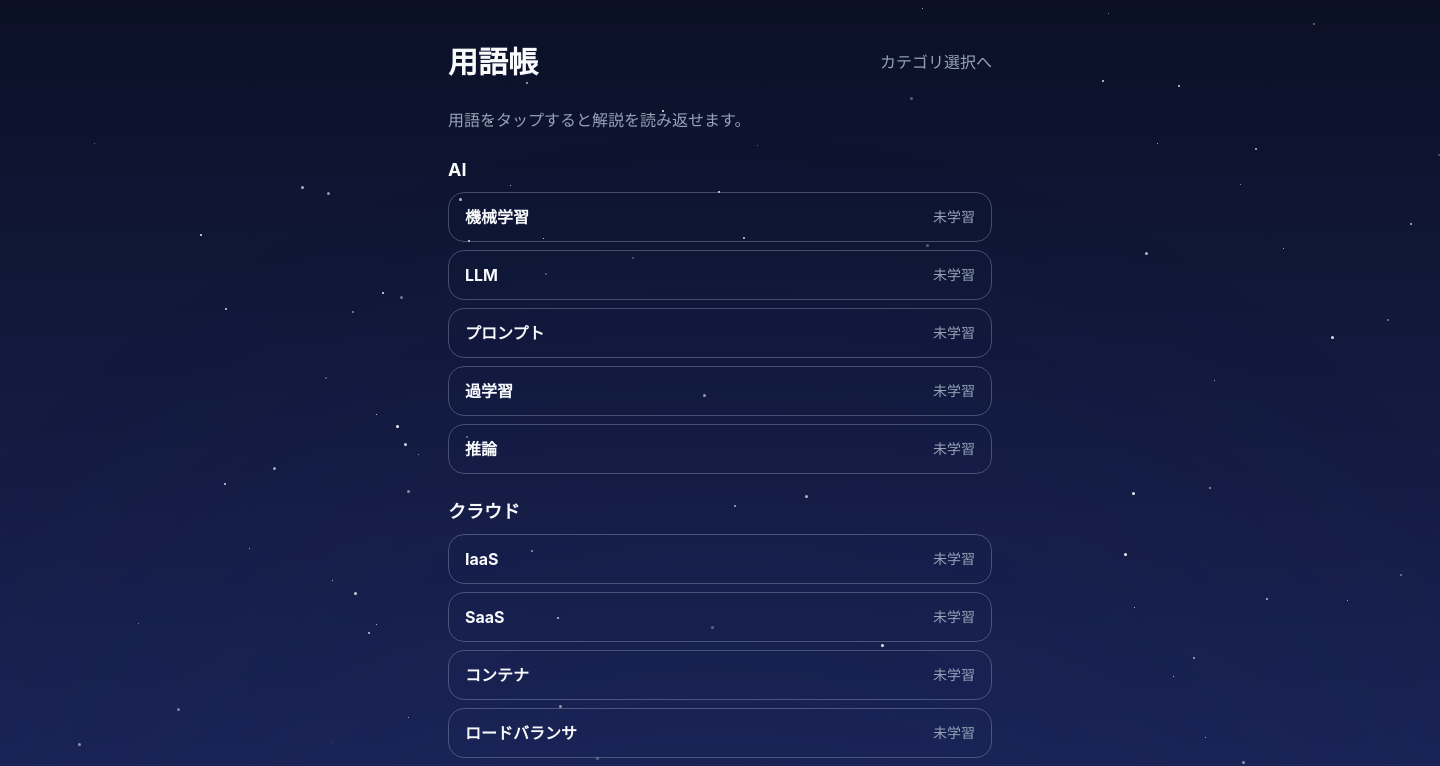
Test: Glossary › shows the explanation when a term is tapped
What coordinates should you click on to do the following:
click the button "機械学習 未学習"
I would click on:
 (497, 217)
Its box is [448,192,992,242].
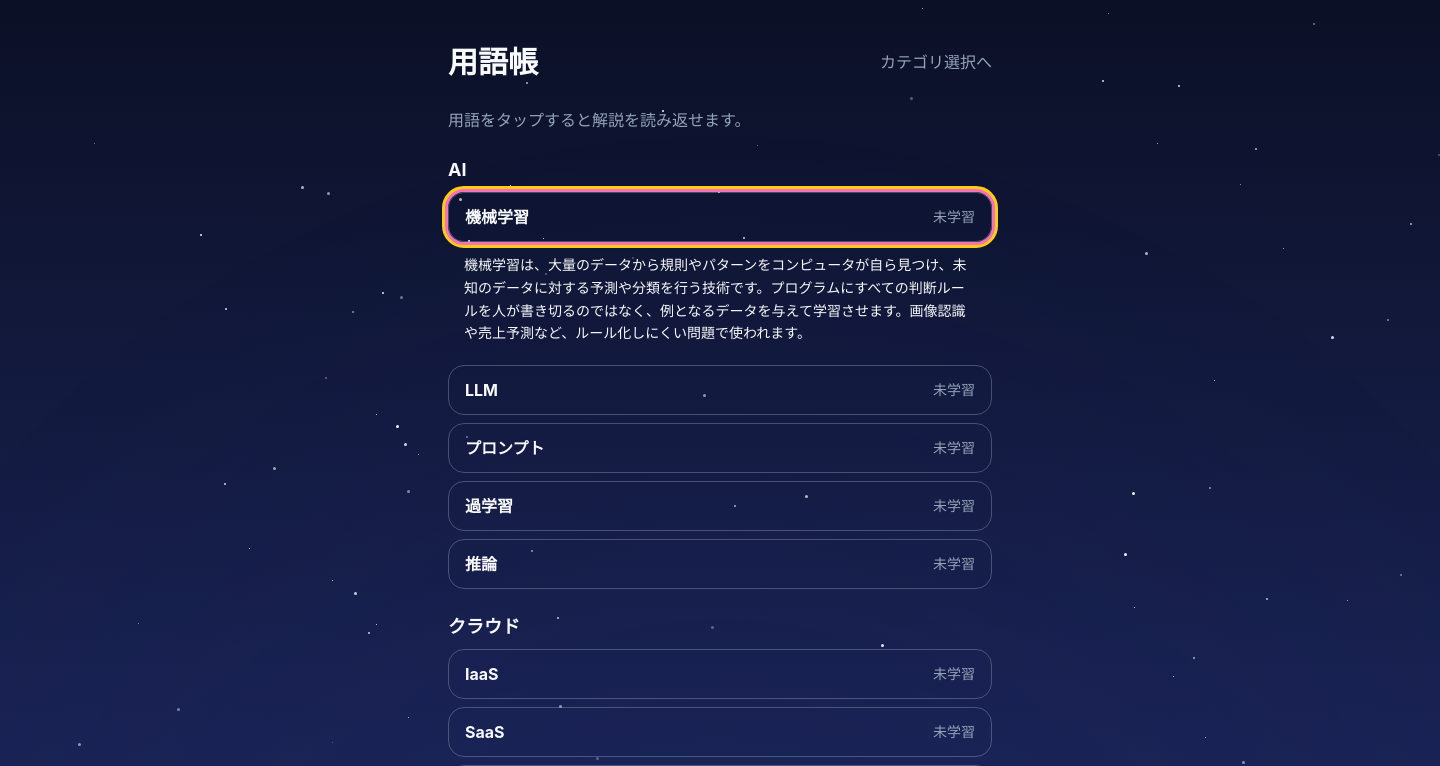
Now the text with test id "glossary-explanation" shows "機械学習は、大量のデータから規則やパターンをコンピュータが自ら見つけ、未知のデータに対する予測や分類を行う技術です。プログラムにすべての判断ルールを人が書き切るのではなく、例となるデータを与えて学習させます。画像認識や売上予測など、ルール化しにくい問題で使われます。", box [464,256,967,341]
Now the button "機械学習 未学習" is expanded
What coordinates should you click on to do the following:
click the button "機械学習 未学習"
I would click on:
 (497, 217)
Its box is [448,192,992,242].
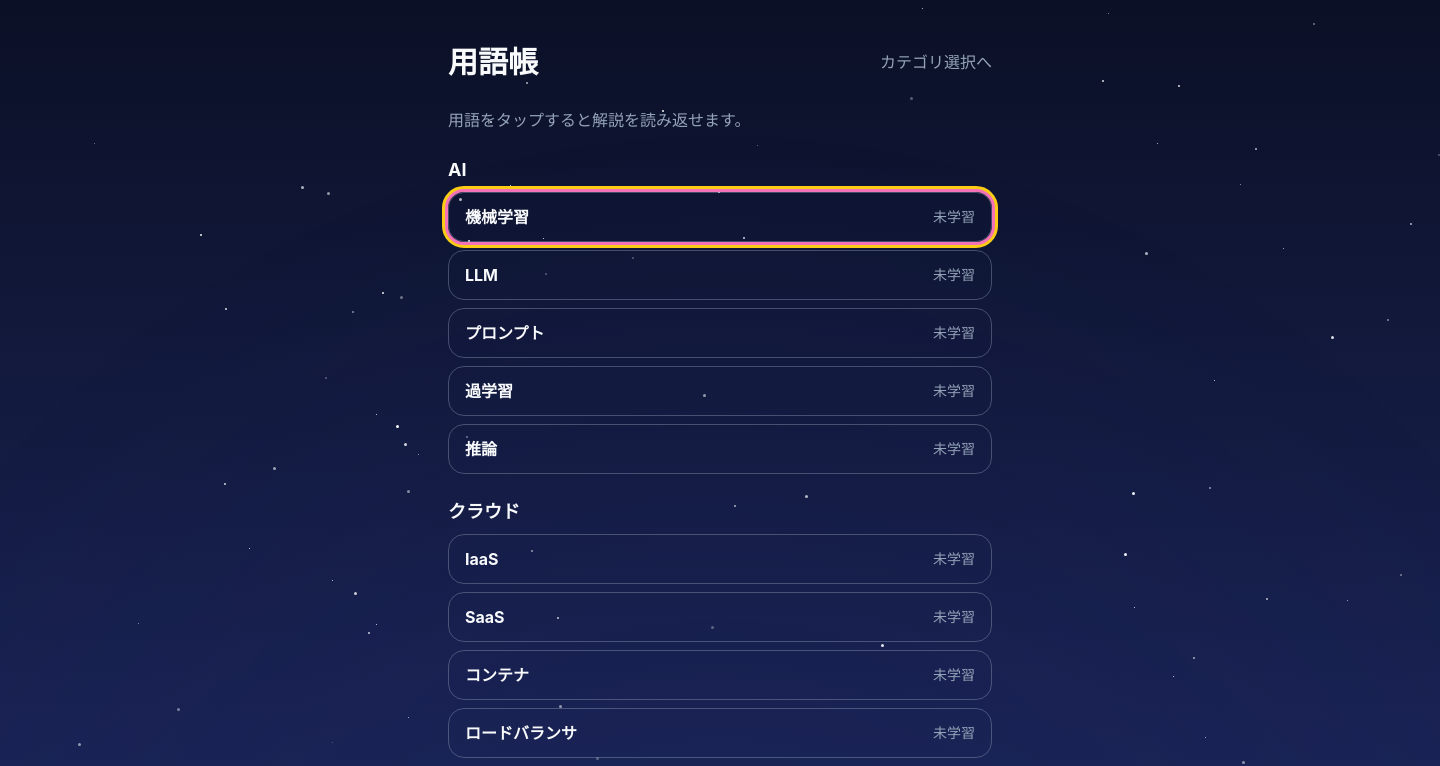
Now the text with test id "glossary-explanation" is gone
